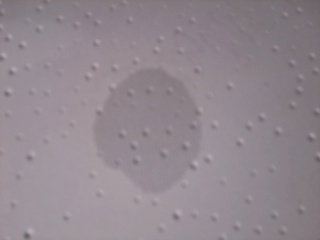Water_detected: (106, 80, 203, 181)
